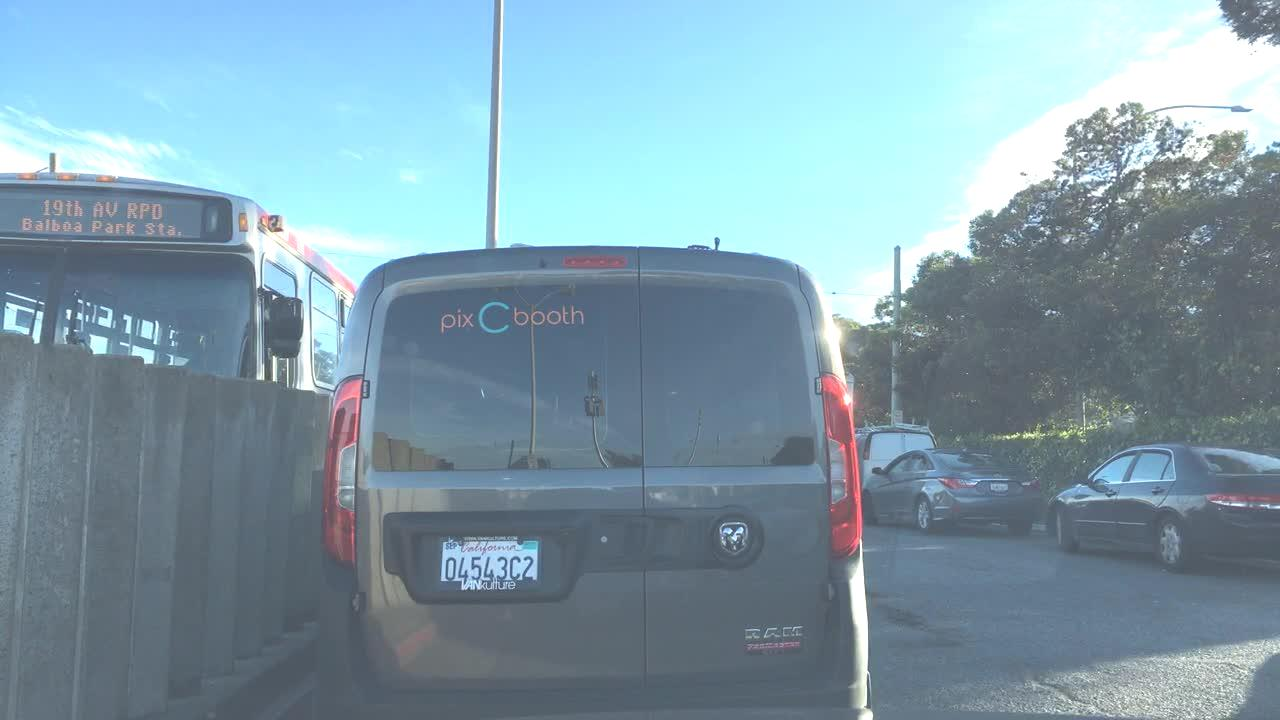ram: (711, 505, 763, 568)
